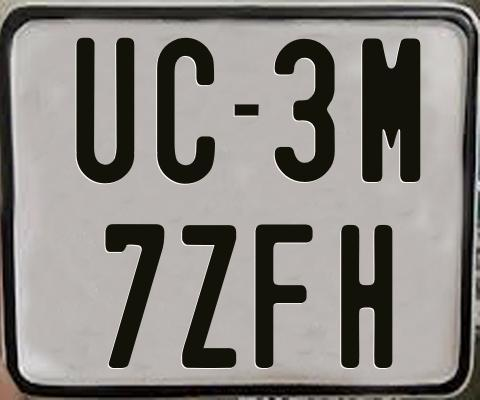3: (273, 36, 334, 182)
7: (102, 222, 166, 369)
C: (155, 36, 213, 183)
F: (255, 223, 315, 371)
H: (341, 225, 397, 370)
M: (360, 38, 420, 187)
U: (74, 36, 134, 185)
Z: (182, 224, 239, 369)
